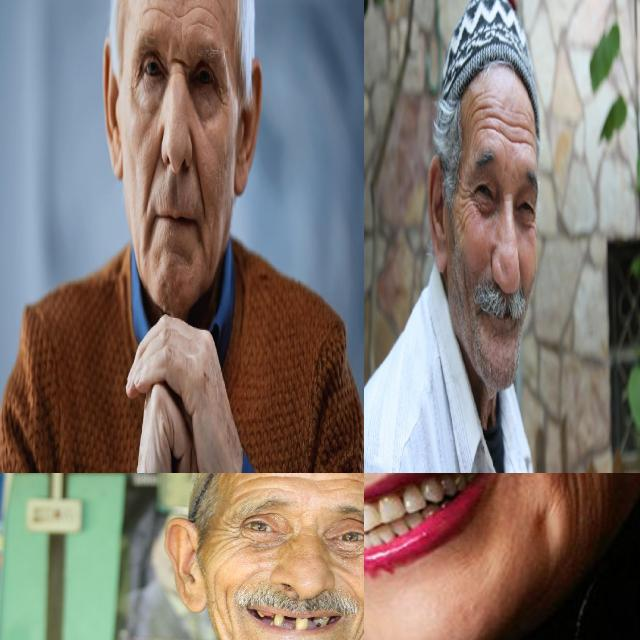crows_feet: (215, 518, 242, 550), (217, 76, 229, 106), (462, 183, 472, 219), (131, 60, 140, 95), (530, 208, 536, 234)
forehead: (187, 0, 220, 32), (143, 0, 173, 24), (503, 107, 519, 151), (249, 473, 286, 491), (293, 473, 332, 490), (521, 108, 534, 154), (470, 94, 484, 134), (486, 96, 498, 138), (347, 473, 364, 499)
frown_line: (170, 45, 187, 79)
gummy_smile: (144, 145, 158, 204), (195, 155, 205, 208)
masseter: (555, 473, 594, 501), (208, 571, 225, 613), (222, 588, 240, 626), (354, 596, 364, 640)
